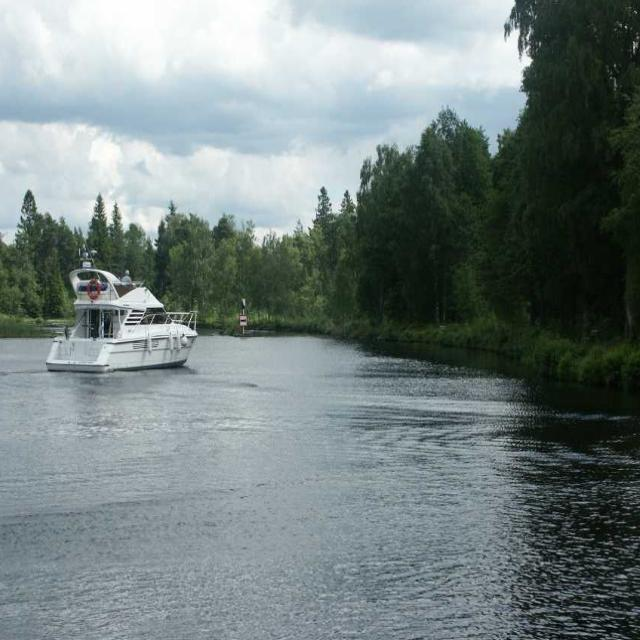houseboat: (40, 262, 207, 372)
